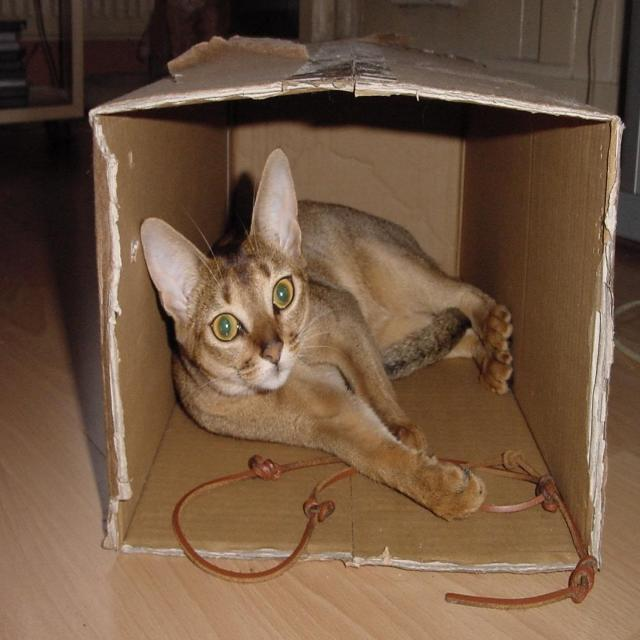Abyssinian: (133, 138, 518, 532)
